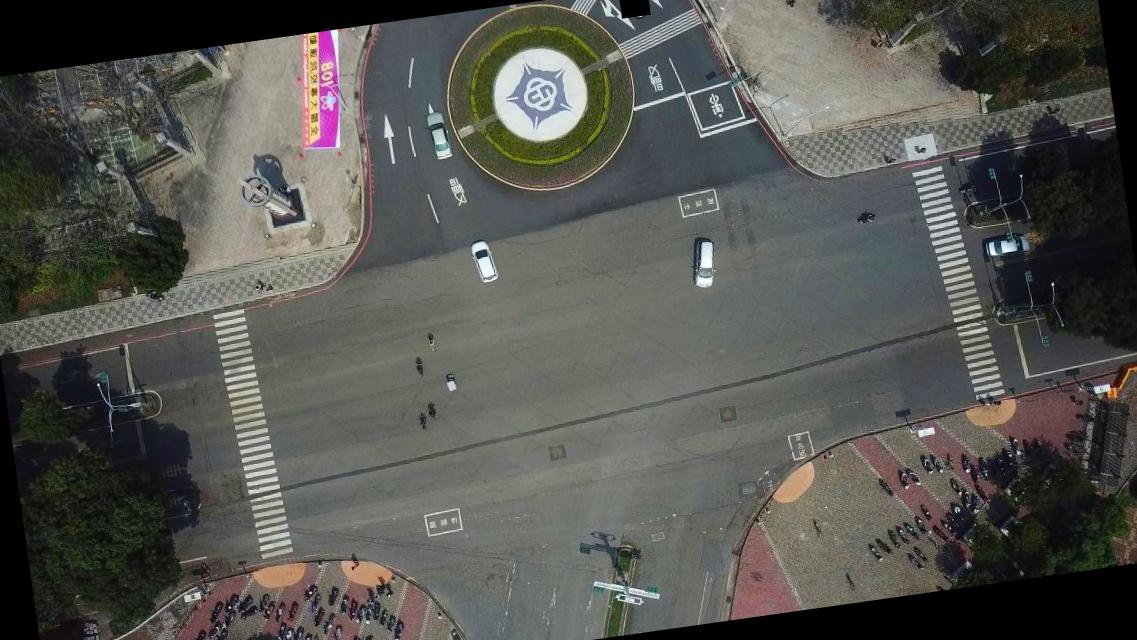vehicle: (688, 239, 720, 289), (469, 238, 500, 284), (984, 233, 1034, 261), (426, 110, 453, 160)
